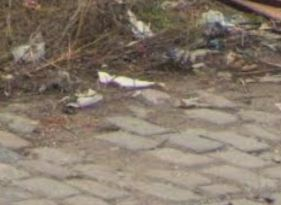trash: (180, 5, 280, 81), (88, 67, 165, 92), (121, 7, 158, 41), (62, 85, 103, 112)
